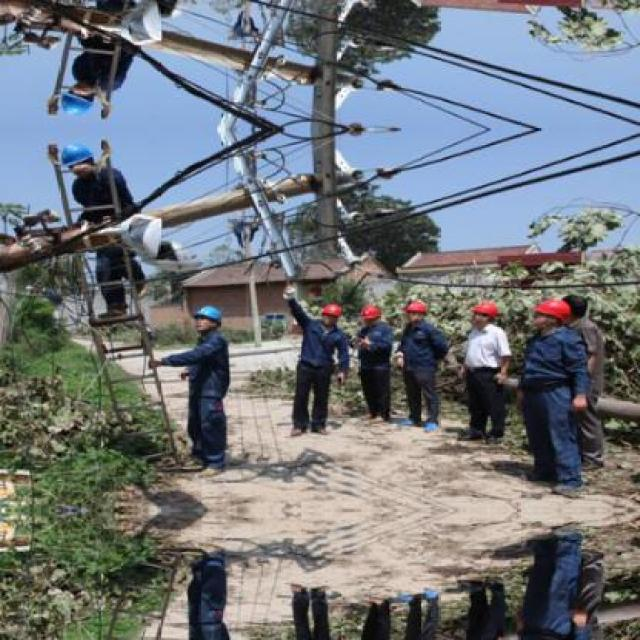helmet: (536, 294, 573, 322), (58, 141, 96, 167), (56, 91, 92, 117), (196, 303, 222, 325), (472, 298, 498, 314), (360, 302, 383, 320), (405, 299, 428, 313), (323, 302, 341, 316)
